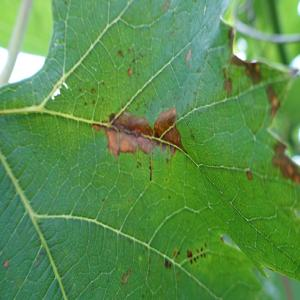Folha: (0, 0, 300, 299)
Fungo: (92, 106, 184, 158), (120, 241, 209, 286), (153, 106, 185, 155), (163, 241, 208, 272), (272, 140, 300, 186), (117, 46, 143, 78), (186, 242, 207, 266), (164, 247, 180, 270), (222, 67, 232, 95), (186, 248, 199, 266), (121, 268, 131, 284), (35, 252, 43, 268), (172, 247, 180, 260), (162, 0, 170, 12), (164, 257, 171, 269), (186, 48, 192, 62), (200, 247, 206, 258), (193, 254, 199, 265), (3, 258, 9, 268), (186, 248, 192, 258), (246, 170, 252, 180), (176, 269, 180, 283), (118, 49, 124, 57), (36, 258, 40, 267), (127, 68, 131, 76), (176, 250, 180, 258), (196, 248, 200, 254), (91, 87, 94, 94), (202, 252, 206, 257), (190, 258, 193, 264), (128, 48, 130, 53)
